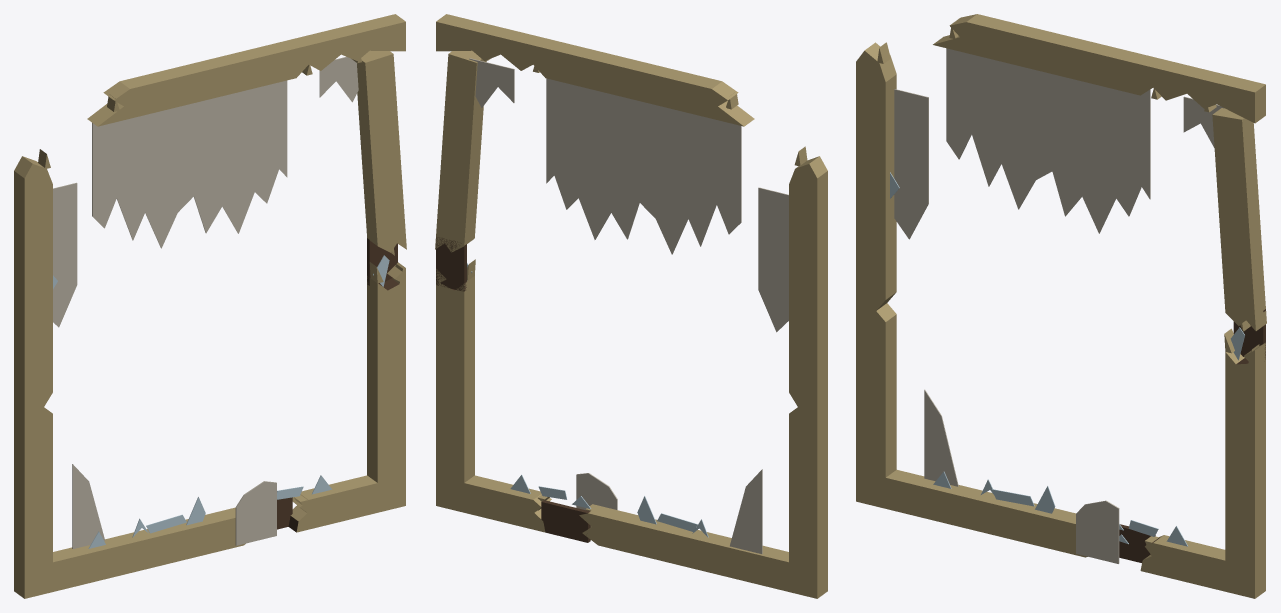
Rendered from BrokenFrame.fbx.
3 views of the same model, side by side, from view 1: azimuth 30°, elevation 25°; view 2: azimuth 150°, elevation 25°; view 3: azimuth 330°, elevation 25° (orthographic). The views are drawn at different scales.
Parts seen in each view (by area): view 1: BrokenFrame; view 2: BrokenFrame; view 3: BrokenFrame.
Boxes of the visible parts, <box> form: BrokenFrame: <box>14,14,406,598</box>; BrokenFrame: <box>435,14,827,598</box>; BrokenFrame: <box>856,14,1266,598</box>.
Bounding box in the file's own units: 1.88 × 2.28 × 0.096.
